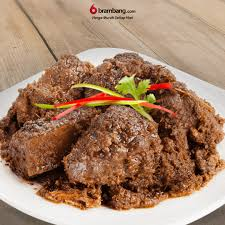rendang: (8, 50, 225, 208)
